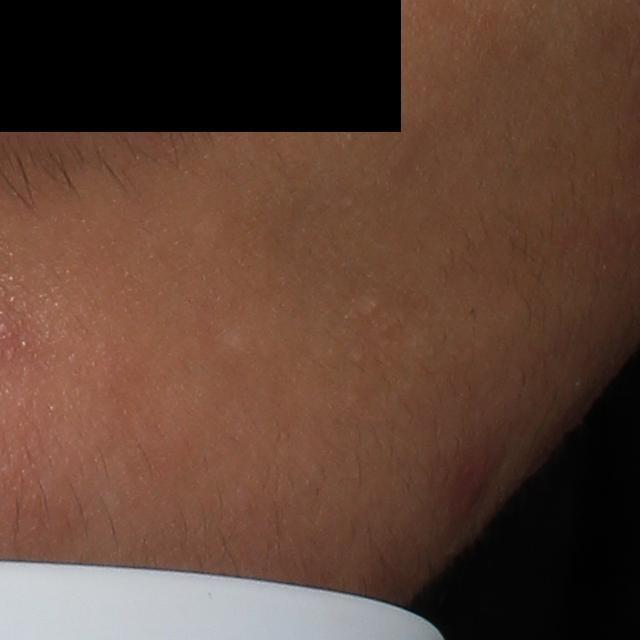papule: (450, 446, 502, 531)
